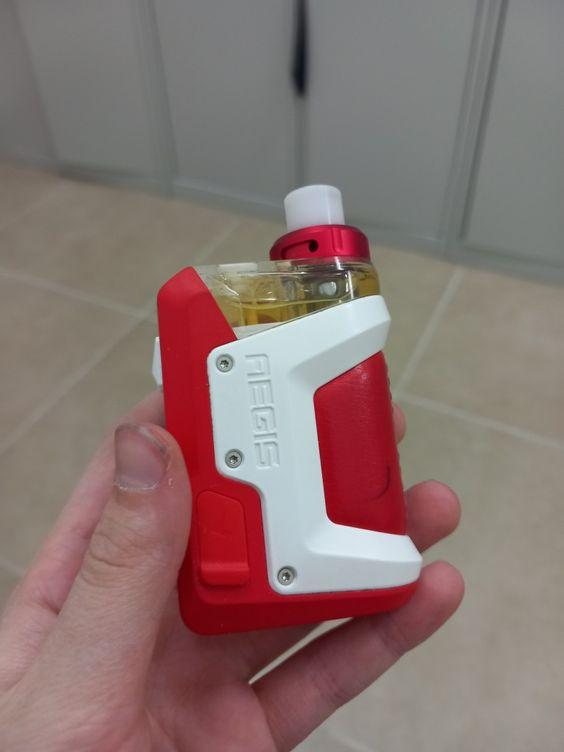Vape: (153, 185, 421, 633)
